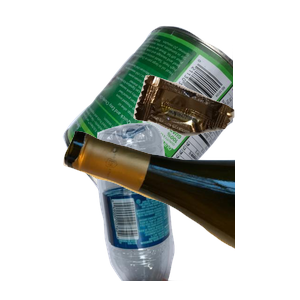glass: (60, 128, 300, 300)
metal: (60, 23, 300, 203)
plastic: (94, 120, 267, 300)
trash: (131, 73, 300, 202)
